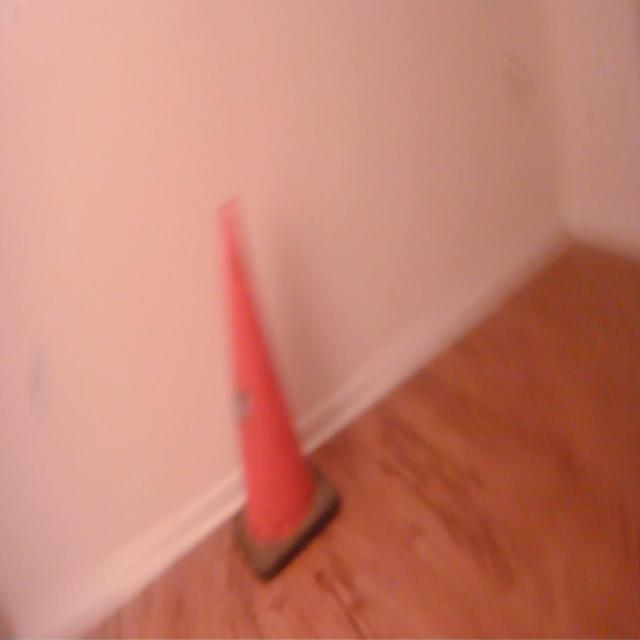traffic cone: (210, 192, 346, 587)
